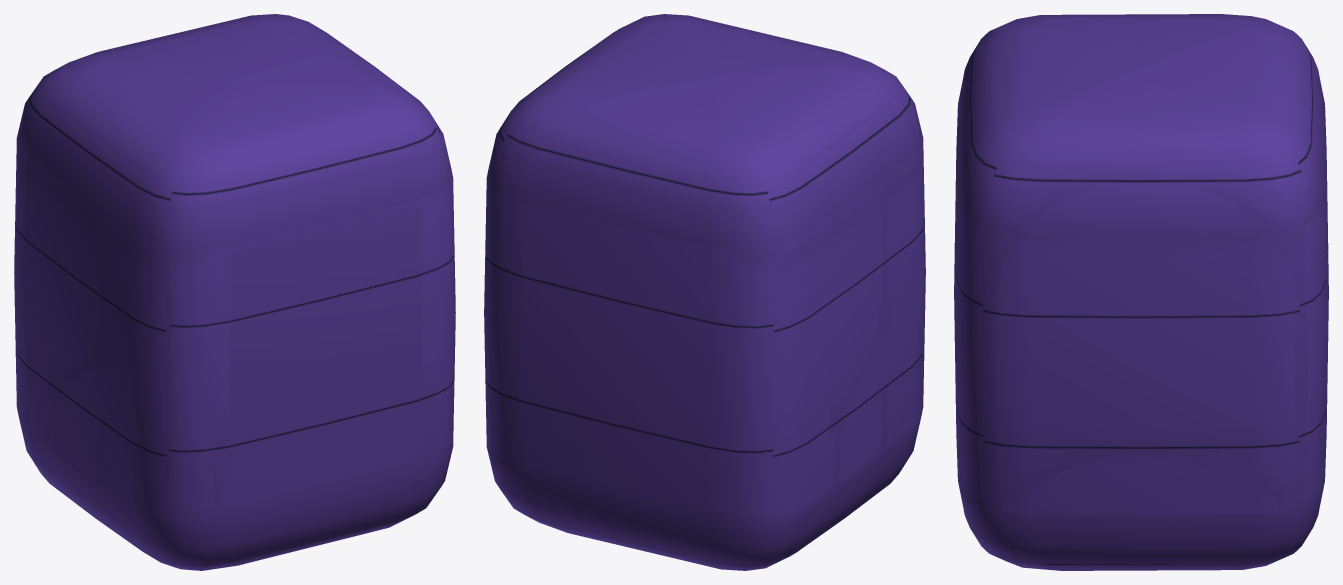
File: Estela_MusloDer.fbx
The picture shows the model from 3 angles, left to right: view 1: azimuth 30°, elevation 25°; view 2: azimuth 150°, elevation 25°; view 3: azimuth 270°, elevation 25°; orthographic projection. The views are drawn at different scales.
Visible parts, largest first — view 1: Estela_MusloDer; view 2: Estela_MusloDer; view 3: Estela_MusloDer.
Boxes of the visible parts, bbox=[...] form: Estela_MusloDer: bbox=[14, 14, 455, 570]; Estela_MusloDer: bbox=[484, 14, 925, 570]; Estela_MusloDer: bbox=[954, 14, 1328, 570].
Size of the model in its own units: 1.06 by 1.39 by 1.04.
